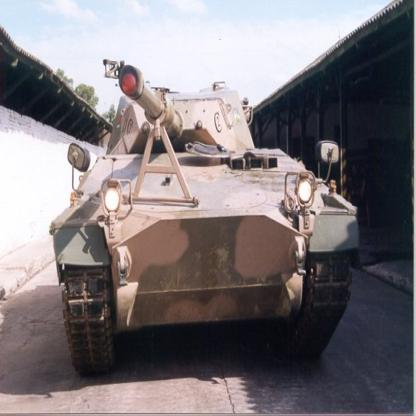Tank: (52, 62, 358, 381)
